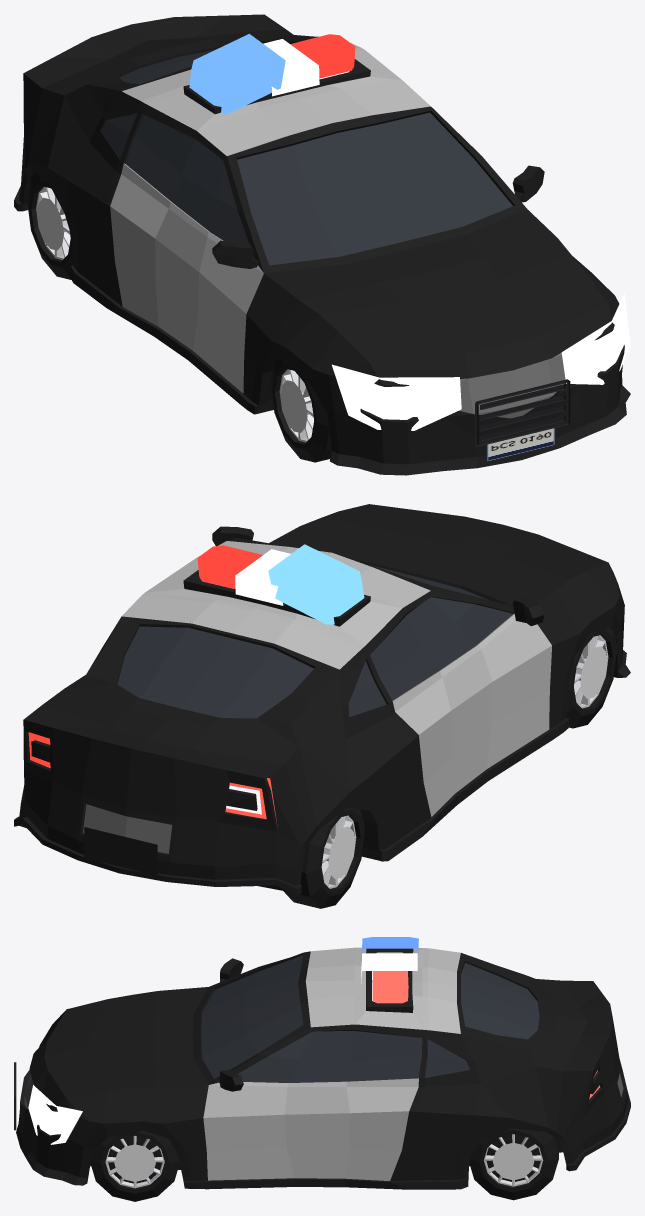
File: police.glb
The picture shows the model from 3 angles, top to bottom: view 1: azimuth 30°, elevation 25°; view 2: azimuth 150°, elevation 25°; view 3: azimuth 270°, elevation 25°; orthographic projection. The views are drawn at different scales.
Parts seen in each view (by area): view 1: body, hood, door_FR, door_RR, bumper_front, headlight_R, siren_blue_R, grille, wheel_FR, headlight_L, wheel_RR, hubcap (×2) (+4 smaller); view 2: body, hood, door_FR, door_RR, bumper_rear, siren_blue_R, wheel_RR, wheel_FR, plate, hubcap (×2), taillight_L, siren_white_L; view 3: body, door_FL, hood, door_RL, wheel_RL, wheel_FL, bumper_front, hubcap (×2), bumper_rear, headlight_L, taillight_L, siren_blue_R (+3 smaller).
Part boxes in pixels (bbox=[...]): body: bbox=[14, 14, 630, 465]; hood: bbox=[246, 209, 619, 385]; door_FR: bbox=[155, 131, 263, 405]; door_RR: bbox=[67, 86, 214, 326]; bumper_front: bbox=[337, 345, 630, 475]; headlight_R: bbox=[332, 364, 461, 430]; siren_blue_R: bbox=[189, 33, 285, 114]; grille: bbox=[475, 379, 570, 446]; wheel_FR: bbox=[270, 358, 331, 462]; headlight_L: bbox=[561, 293, 630, 384]; wheel_RR: bbox=[27, 173, 73, 279]; hubcap (×2): bbox=[36, 197, 307, 432]; body: bbox=[14, 526, 630, 895]; hood: bbox=[269, 504, 619, 645]; door_FR: bbox=[403, 585, 565, 793]; door_RR: bbox=[339, 596, 454, 848]; bumper_rear: bbox=[22, 770, 276, 886]; siren_blue_R: bbox=[268, 544, 364, 624]; wheel_RR: bbox=[283, 807, 364, 908]; wheel_FR: bbox=[566, 627, 617, 728]; plate: bbox=[84, 827, 157, 875]; hubcap (×2): bbox=[328, 646, 607, 879]; taillight_L: bbox=[28, 545, 262, 768]; siren_white_L: bbox=[235, 549, 290, 599]; body: bbox=[40, 947, 621, 1189]; door_FL: bbox=[163, 1024, 354, 1180]; hood: bbox=[29, 987, 208, 1123]; door_RL: bbox=[344, 1007, 481, 1180]; wheel_RL: bbox=[469, 1128, 558, 1200]; wheel_FL: bbox=[90, 1130, 179, 1201]; bumper_front: bbox=[16, 1045, 73, 1184]; hubcap (×2): bbox=[114, 1142, 534, 1181]; bumper_rear: bbox=[582, 1059, 630, 1156]; headlight_L: bbox=[28, 1085, 82, 1144]; taillight_L: bbox=[372, 971, 599, 1098]; siren_blue_R: bbox=[361, 937, 418, 961].
Size of the model in its own units: 2 by 1.48 by 4.21.
Materials: 14 (1 with a texture image).
